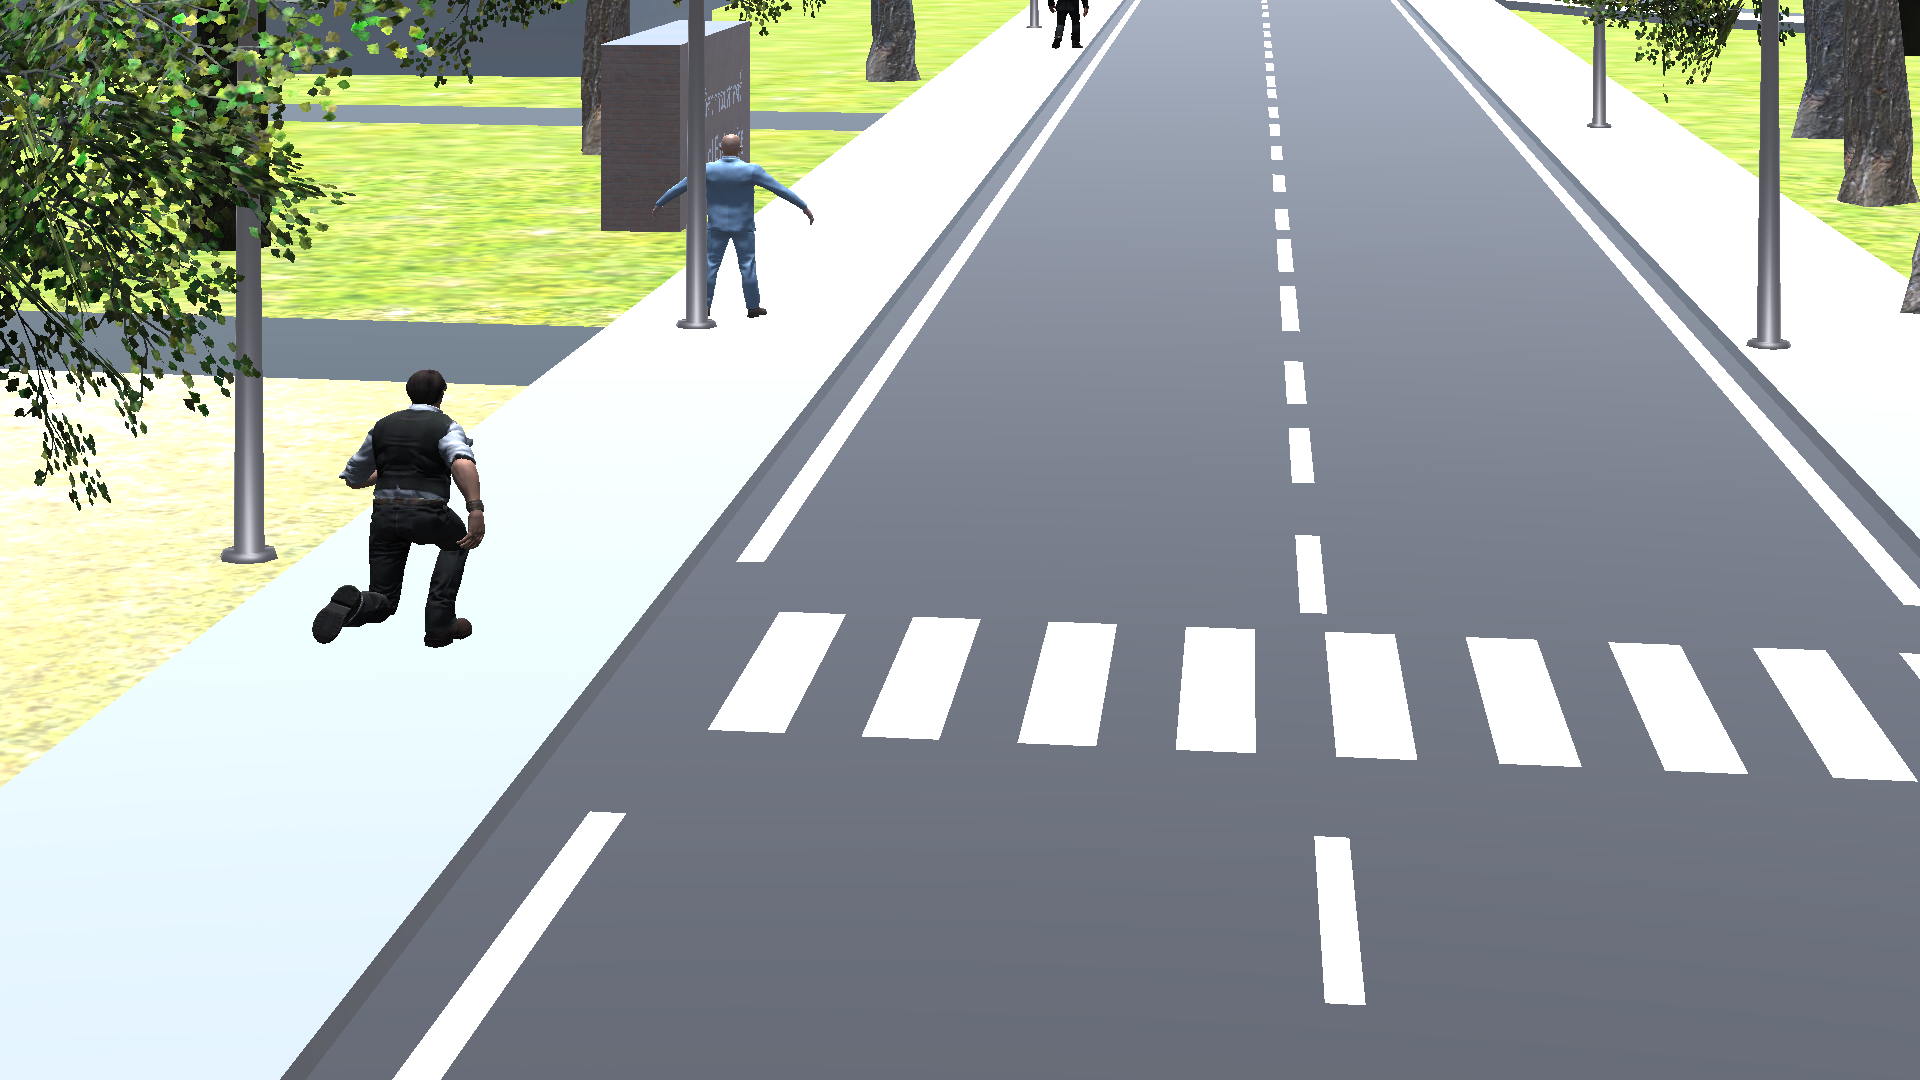pedestrian: (305, 358, 491, 658), (653, 127, 787, 320), (1039, 1, 1096, 60)
